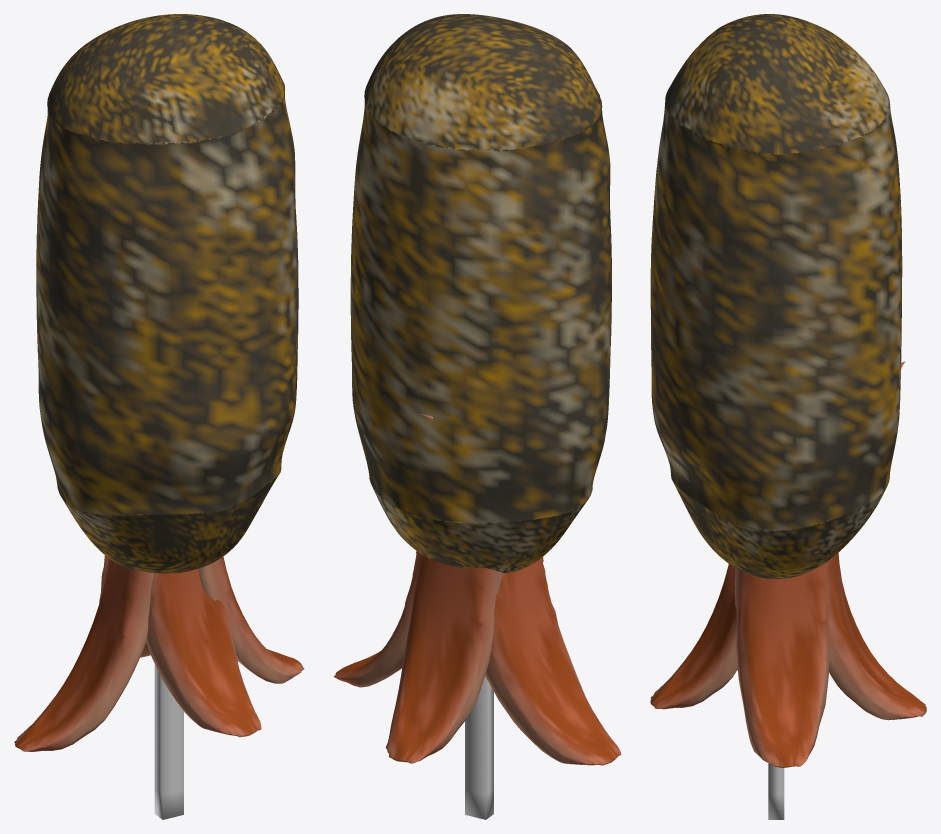
Rendered from MukHotdog.fbx.
3 renders of one model, left to right at view 1: azimuth 30°, elevation 25°; view 2: azimuth 150°, elevation 25°; view 3: azimuth 270°, elevation 25°, orthographic.
Parts seen in each view (by area): view 1: 원통 5, 원통 1, 원통 2, 상자, 원통; view 2: 원통 5, 원통 3, 원통 2, 상자, 원통; view 3: 원통 5, 원통, 원통 3, 원통 1, 상자.
Part boxes in pixels (x1,y1,x2,y2): 원통 5: (36, 14, 298, 573); 원통 1: (146, 569, 261, 737); 원통 2: (14, 558, 153, 751); 상자: (154, 664, 183, 819); 원통: (198, 556, 304, 683); 원통 5: (350, 14, 611, 572); 원통 3: (385, 403, 503, 763); 원통 2: (485, 557, 621, 765); 상자: (465, 676, 493, 819); 원통: (333, 551, 419, 687); 원통 5: (650, 14, 902, 578); 원통: (734, 561, 829, 767); 원통 3: (807, 361, 926, 720); 원통 1: (650, 564, 737, 709); 상자: (768, 763, 784, 819).
Size of the model in its own units: 0.5021 by 1.35 by 0.4329.
